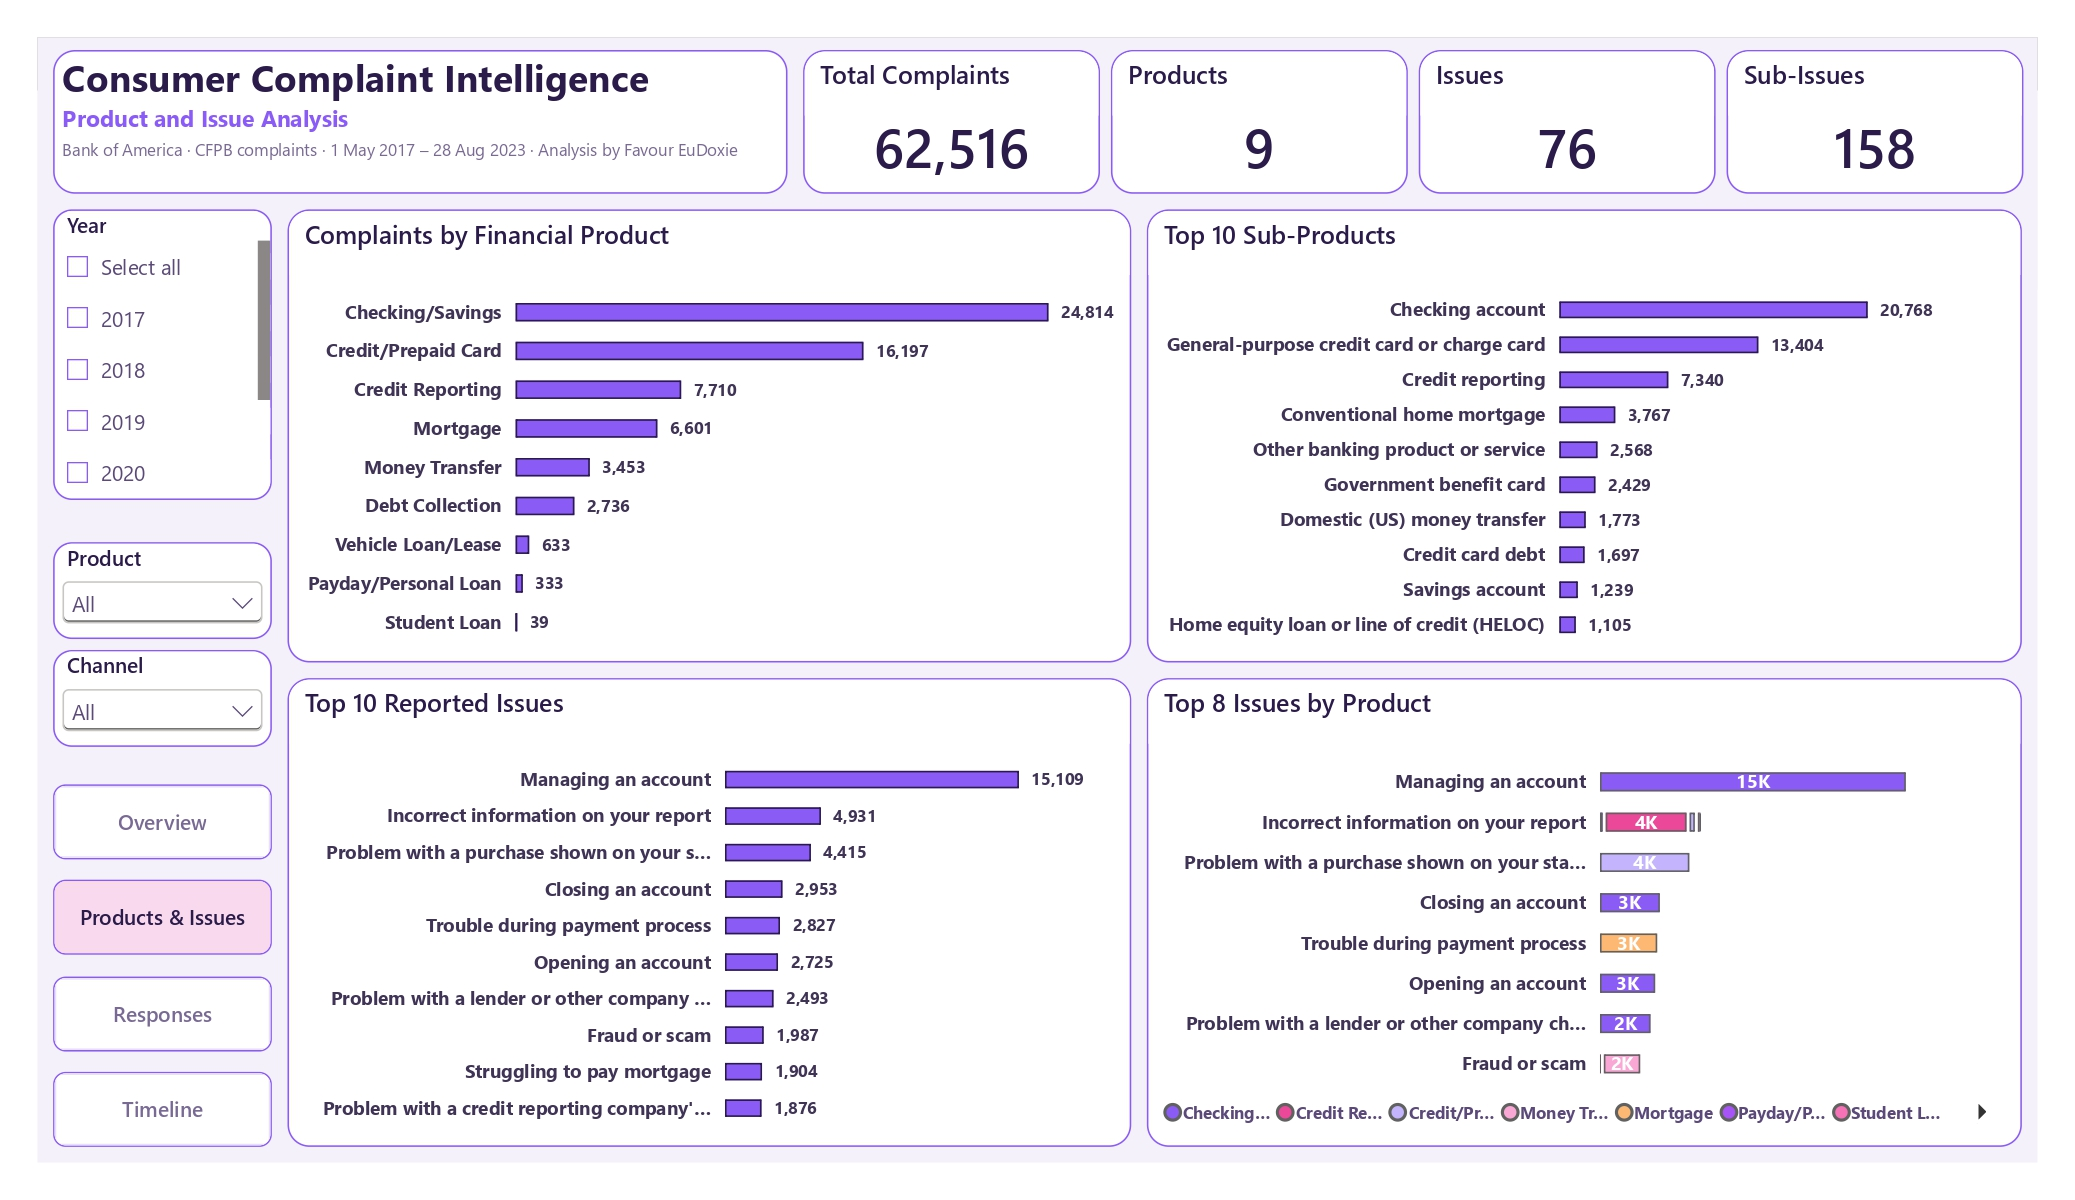

This screenshot's page, from the dashboard's own definition file:
{"tool":"powerbi","page":{"name":"Product and Issue","canvas":[1280,720],"ordinal":1},"visuals":[{"type":"textbox","box":[10,8,470,92],"z":1000},{"type":"card","title":"Total Complaints","fields":{"Values":["Complaints.Total Complaints"]},"box":[490,8,190,92],"z":2000},{"type":"card","title":"Products","fields":{"Values":["Complaints.Products"]},"box":[687,8,190,92],"z":3000},{"type":"card","title":"Issues","fields":{"Values":["Complaints.Issues"]},"box":[884,8,190,92],"z":4000},{"type":"card","title":"Sub-Issues","fields":{"Values":["Complaints.Sub-issues"]},"box":[1081,8,190,92],"z":5000},{"type":"slicer","fields":{"Values":["Complaints.Year"]},"box":[10,110,140,186],"z":6000},{"type":"slicer","fields":{"Values":["Complaints.Product Short"]},"box":[10,323,140,62],"z":7000},{"type":"slicer","fields":{"Values":["Complaints.Submitted via"]},"box":[10,392,140,62],"z":8000},{"type":"actionButton","box":[10.1,478,140,48],"z":9000},{"type":"actionButton","box":[10.1,539.3,140,48],"z":10000},{"type":"actionButton","box":[10.1,600.7,140,48],"z":11000},{"type":"actionButton","box":[10,662,140,48],"z":12000},{"type":"clusteredBarChart","title":"Complaints by Financial Product","fields":{"Category":["Complaints.Product Short"],"Y":["Complaints.Total Complaints"]},"box":[160,110,540,290],"z":14000},{"type":"clusteredBarChart","title":"Top 10 Sub-Products","fields":{"Category":["Complaints.Sub-product Clean"],"Y":["Complaints.Total Complaints"]},"box":[710,110,560,290],"z":15000},{"type":"clusteredBarChart","title":"Top 10 Reported Issues","fields":{"Category":["Complaints.Issue"],"Y":["Complaints.Total Complaints"]},"box":[160,410,540,300],"z":16000},{"type":"barChart","title":"Top 8 Issues by Product","fields":{"Category":["Complaints.Issue"],"Series":["Complaints.Product Short"],"Y":["Complaints.Total Complaints"]},"box":[710,410,560,300],"z":17000}]}

Visuals, with their boxes on the page's 1280x720 design canvas (x1, y1, x2, y2). These are canvas units, not pixel positions in the 2075x1200 screenshot, which may show the page scaled, cropped or inside an application window:
textbox: l=10, t=8, r=480, b=100
"Total Complaints" card: l=490, t=8, r=680, b=100
"Products" card: l=687, t=8, r=877, b=100
"Issues" card: l=884, t=8, r=1074, b=100
"Sub-Issues" card: l=1081, t=8, r=1271, b=100
slicer - Complaints.Year: l=10, t=110, r=150, b=296
slicer - Complaints.Product Short: l=10, t=323, r=150, b=385
slicer - Complaints.Submitted via: l=10, t=392, r=150, b=454
actionButton: l=10, t=478, r=150, b=526
actionButton: l=10, t=539, r=150, b=587
actionButton: l=10, t=601, r=150, b=649
actionButton: l=10, t=662, r=150, b=710
"Complaints by Financial Product" clusteredBarChart: l=160, t=110, r=700, b=400
"Top 10 Sub-Products" clusteredBarChart: l=710, t=110, r=1270, b=400
"Top 10 Reported Issues" clusteredBarChart: l=160, t=410, r=700, b=710
"Top 8 Issues by Product" barChart: l=710, t=410, r=1270, b=710
